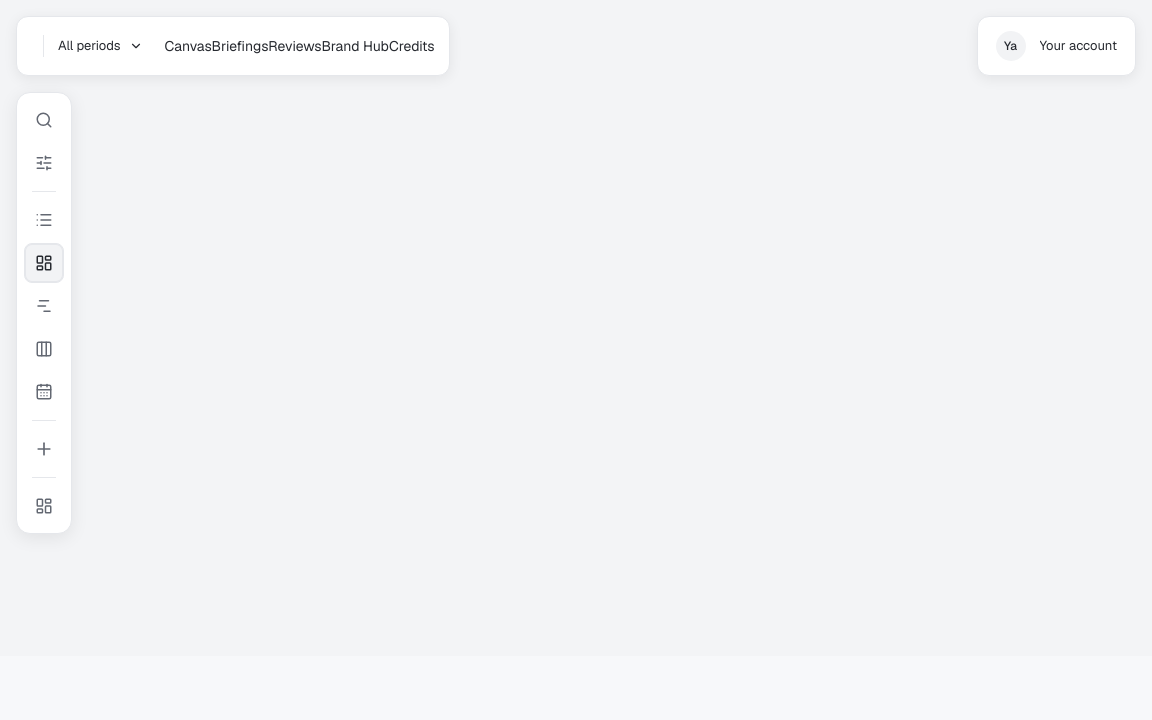
BoardPage widgets › shows a failed placement in the panel
Click the button named "Board widgets".
click(44, 506)  # box [24, 486, 64, 526]
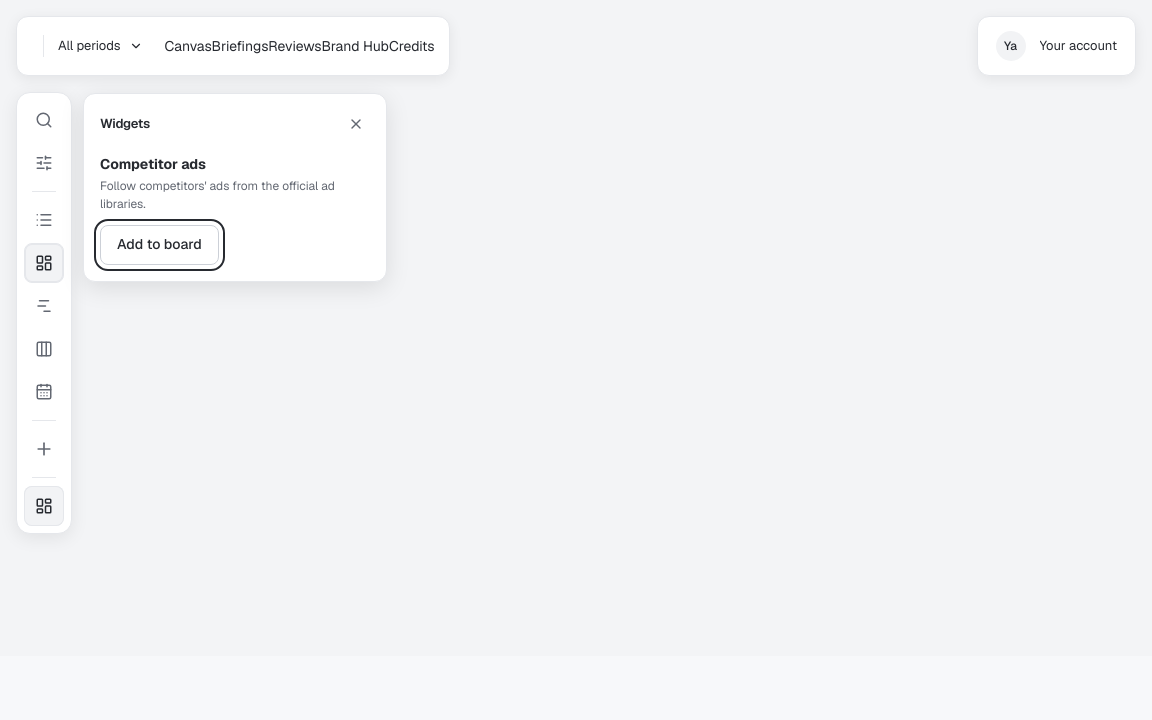
Click the button "Add to board".
click(159, 245)  # box [100, 225, 219, 265]
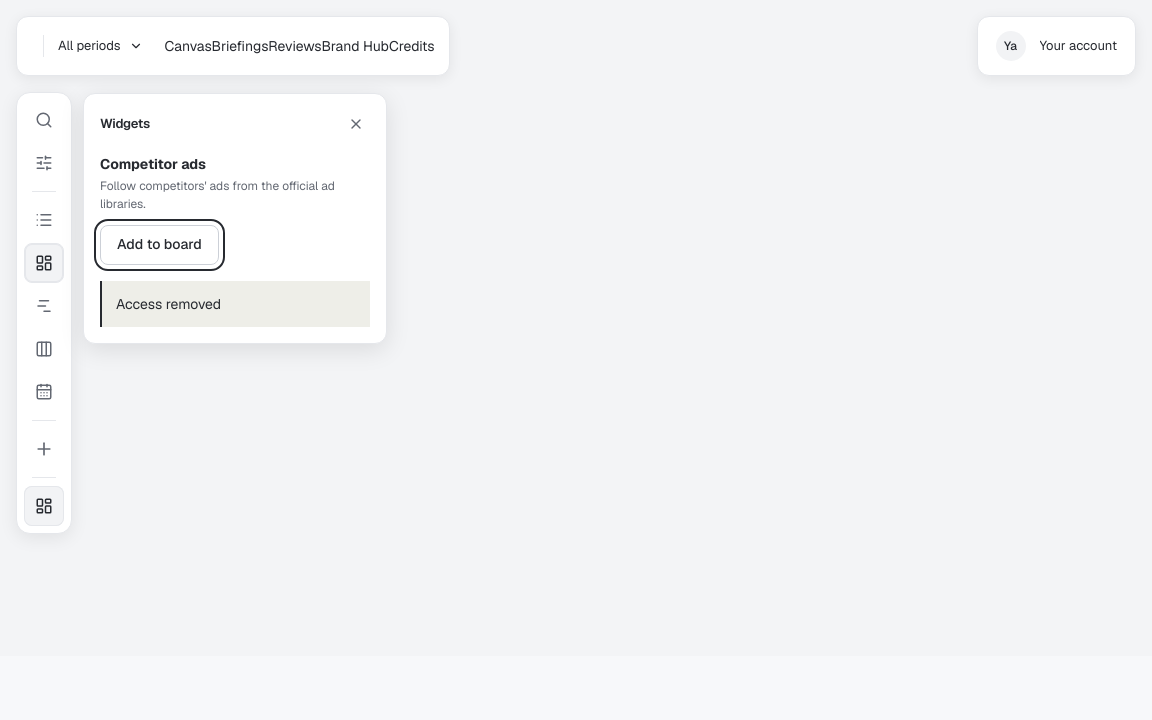
Result: the message reads "Access removed" at [116, 295, 221, 313]
